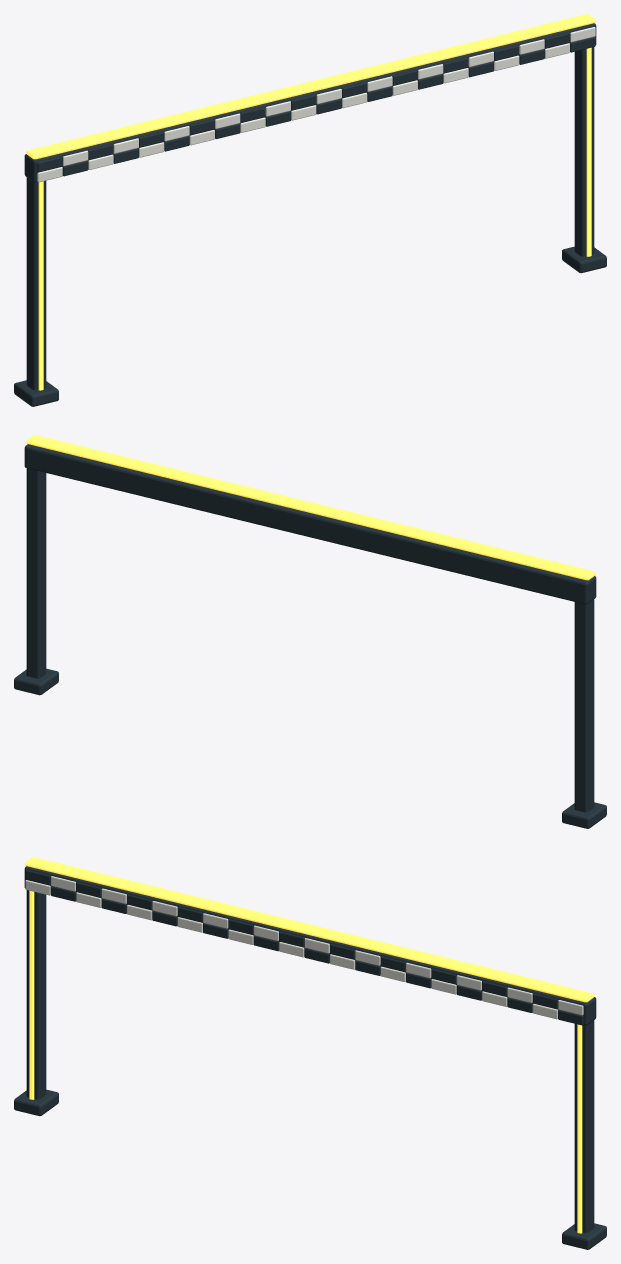
The model's file is race-arch-v1.glb.
3 renders of one model, top to bottom at view 1: azimuth 30°, elevation 25°; view 2: azimuth 150°, elevation 25°; view 3: azimuth 330°, elevation 25°, orthographic.
Parts seen in each view (by area): view 1: Checkpoint upright, Luminous guide, Finish checker; view 2: Checkpoint upright, Luminous guide; view 3: Checkpoint upright, Luminous guide, Finish checker.
Boxes of the visible parts, box(x1,y1,x2,y2) form: Checkpoint upright: box(14, 23, 606, 406); Luminous guide: box(26, 14, 595, 390); Finish checker: box(37, 27, 595, 182); Checkpoint upright: box(14, 444, 606, 828); Luminous guide: box(26, 435, 596, 580); Checkpoint upright: box(14, 866, 606, 1249); Luminous guide: box(25, 857, 594, 1233); Finish checker: box(25, 876, 583, 1019).
Size of the model in its own units: 11.35 by 4.65 by 0.65.
